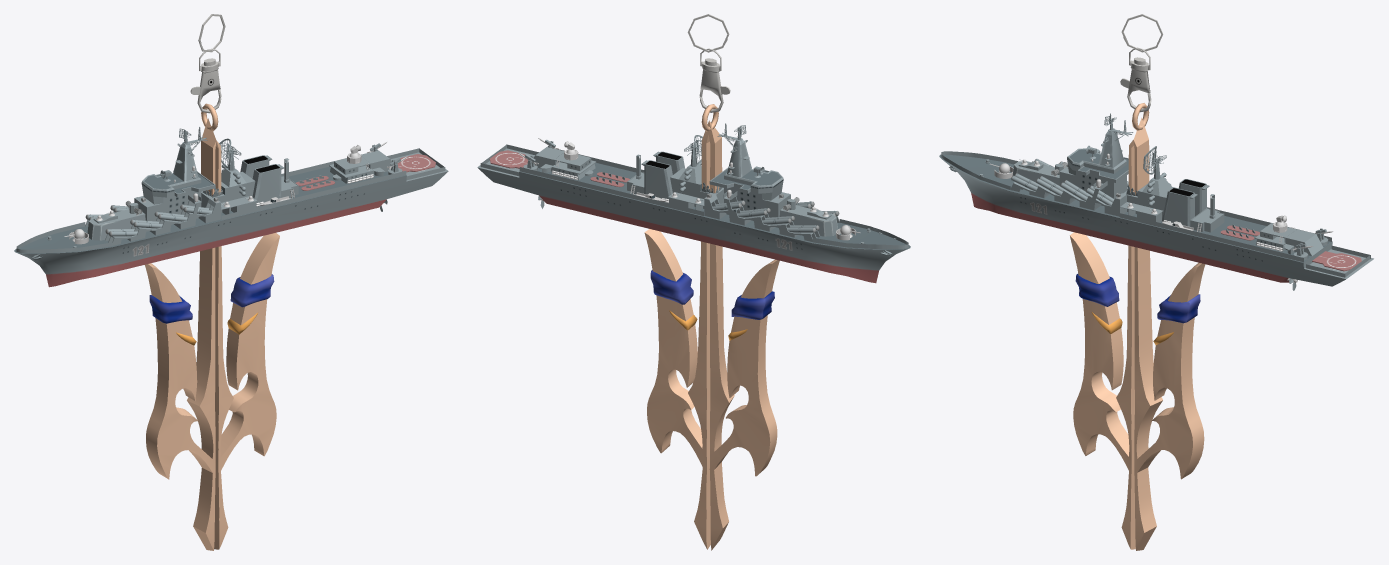
The model's file is kraisler.gltf.
3 views of the same model, side by side, from view 1: azimuth 30°, elevation 25°; view 2: azimuth 150°, elevation 25°; view 3: azimuth 330°, elevation 25° (orthographic).
Parts seen in each view (by area): view 1: kraisler; view 2: kraisler; view 3: kraisler.
Boxes of the visible parts, box(x1,y1,x2,y2) form: kraisler: box(14, 14, 448, 550); kraisler: box(477, 14, 910, 550); kraisler: box(939, 14, 1373, 550).
Size of the model in its own units: 20.83 by 25.39 by 2.51.
Materials: 4 (4 with a texture image).
